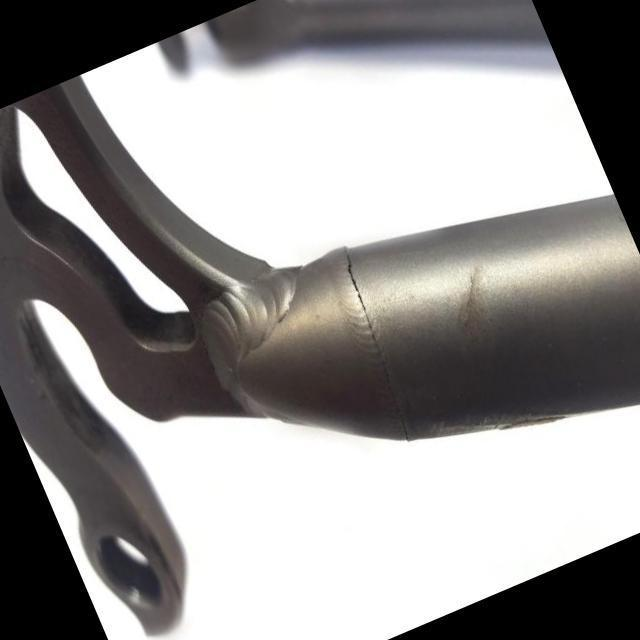defect: (341, 242, 411, 444)
